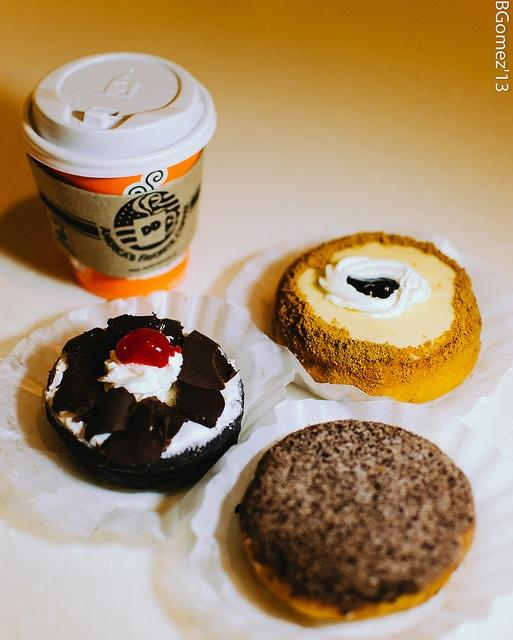cherry: (116, 329, 170, 368)
